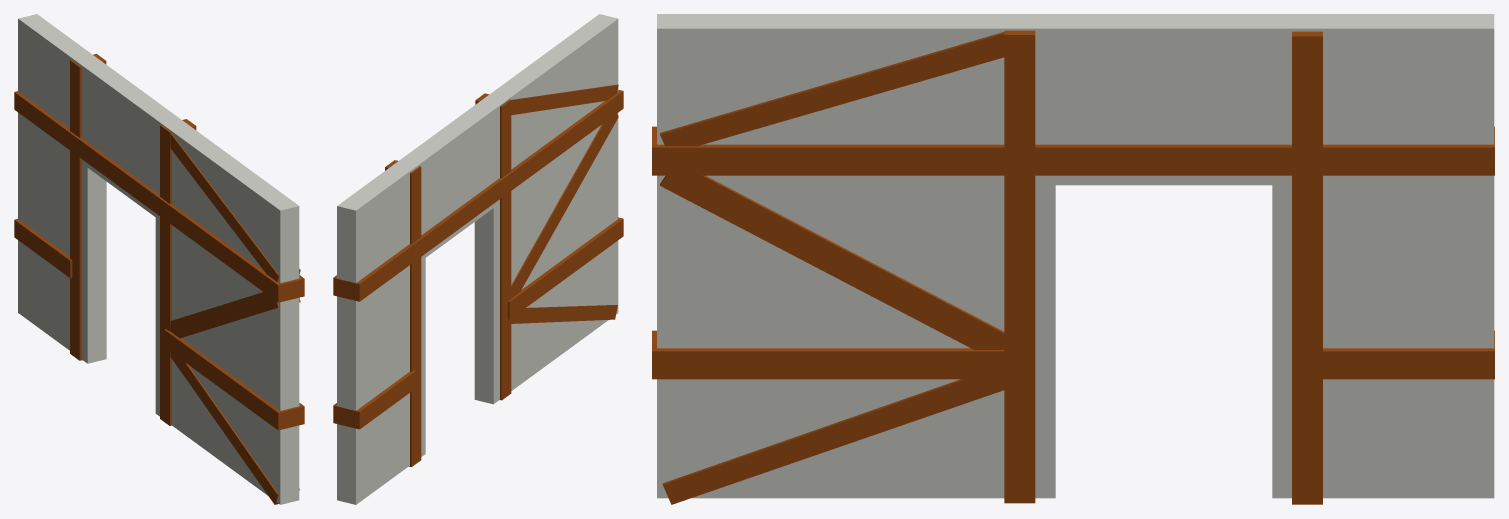
The model's file is OneDoorWall2.fbx.
3 views of the same model, side by side, from view 1: azimuth 30°, elevation 25°; view 2: azimuth 150°, elevation 25°; view 3: azimuth 270°, elevation 25° (orthographic). The views are drawn at different scales.
Parts seen in each view (by area): view 1: OneDoorWall2; view 2: OneDoorWall2; view 3: OneDoorWall2.
Boxes of the visible parts, x1,y1,x2,y2 form: OneDoorWall2: [14, 14, 304, 504]; OneDoorWall2: [333, 14, 623, 504]; OneDoorWall2: [652, 14, 1494, 504].
Size of the model in its own units: 113 by 1122 by 1806.
